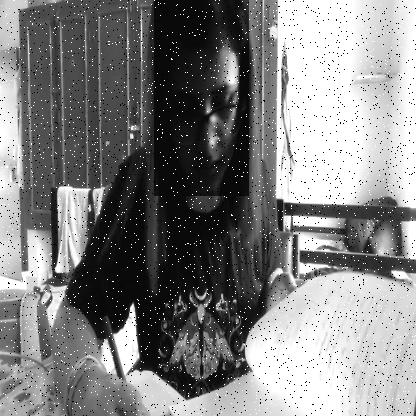Distracted: (154, 0, 249, 196)
